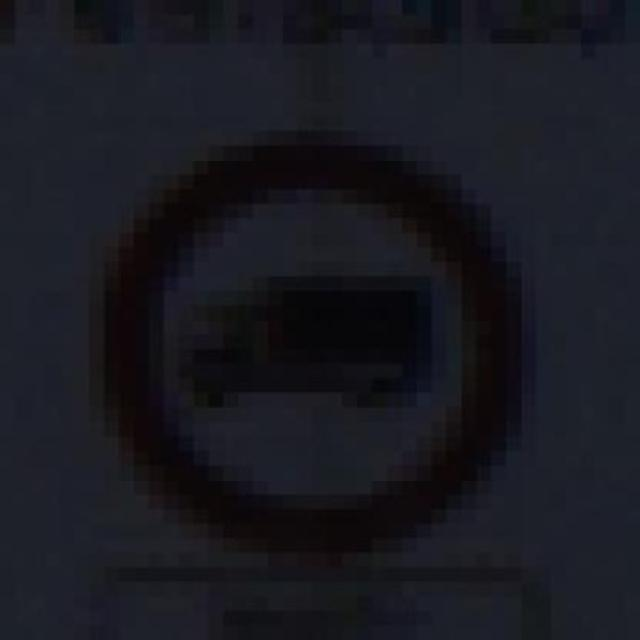Truck traffic is prohibited: (59, 102, 552, 552)
